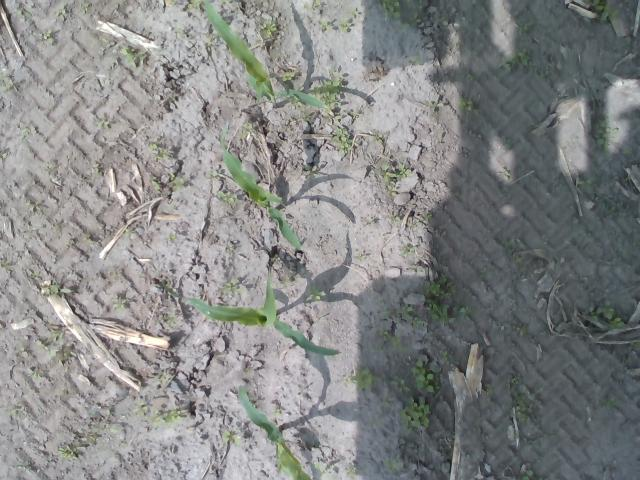Maize: (196, 0, 332, 114), (178, 270, 342, 358), (217, 119, 305, 252), (236, 384, 315, 480)
Weeds: (390, 358, 443, 429), (425, 266, 471, 330), (508, 374, 538, 424), (590, 109, 620, 152), (136, 401, 187, 425), (309, 76, 344, 107), (382, 160, 410, 197), (588, 304, 626, 330), (501, 51, 531, 71), (118, 45, 144, 68), (592, 0, 618, 23), (352, 365, 374, 392), (41, 278, 74, 295), (334, 124, 354, 152), (148, 142, 174, 162), (401, 303, 421, 326), (457, 97, 482, 115), (380, 0, 401, 21), (222, 430, 243, 450), (47, 350, 70, 368), (379, 330, 404, 346), (576, 173, 596, 192), (258, 21, 276, 39), (56, 446, 78, 460), (0, 72, 14, 93), (512, 321, 529, 338), (170, 174, 186, 192), (410, 0, 422, 24), (26, 368, 46, 381), (218, 190, 236, 204), (398, 244, 416, 258), (222, 282, 242, 294), (150, 174, 162, 194), (240, 122, 254, 139), (514, 256, 526, 274), (13, 6, 32, 17), (110, 298, 126, 310), (383, 458, 402, 468), (50, 329, 64, 342), (600, 396, 616, 407), (501, 236, 515, 248), (312, 288, 324, 302), (272, 408, 285, 420), (54, 3, 66, 16), (312, 463, 326, 474), (282, 71, 296, 82), (345, 466, 360, 476), (94, 120, 110, 129), (318, 20, 334, 29), (384, 215, 400, 224), (441, 350, 452, 363), (338, 18, 348, 32), (20, 127, 28, 144), (349, 7, 361, 18), (166, 315, 177, 327), (483, 383, 493, 396), (518, 23, 529, 34), (188, 0, 202, 8), (373, 132, 382, 144), (502, 136, 514, 145), (94, 161, 102, 174), (398, 22, 408, 32), (631, 342, 640, 352), (164, 0, 178, 6), (310, 0, 322, 7), (425, 212, 433, 221), (46, 37, 54, 46), (16, 464, 27, 470), (122, 228, 130, 236), (304, 112, 310, 122), (520, 475, 530, 480)
